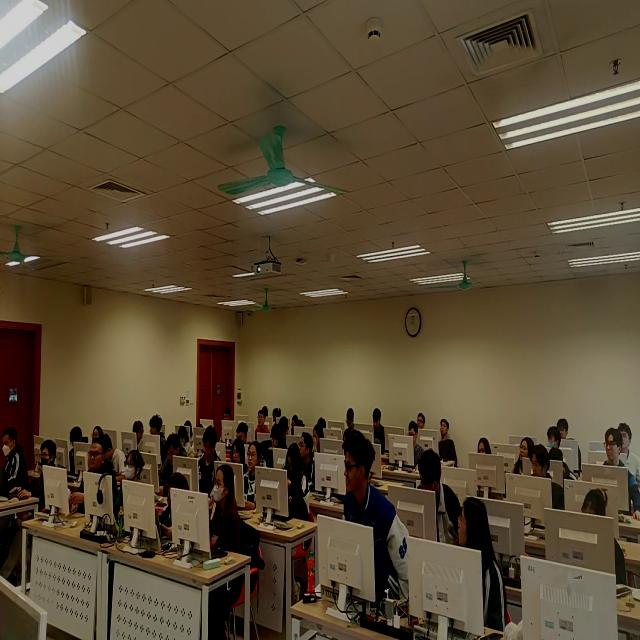raise_head: (70, 437, 120, 520), (602, 424, 640, 524), (207, 461, 243, 555), (530, 442, 566, 514), (114, 447, 146, 526), (555, 415, 583, 482), (616, 420, 640, 491), (244, 438, 263, 511), (299, 431, 317, 494), (438, 415, 460, 465), (512, 434, 535, 478), (543, 422, 564, 453), (254, 409, 270, 442), (477, 432, 494, 459), (418, 410, 428, 430), (92, 423, 103, 441)
stand: (342, 428, 414, 608)
using_computer: (580, 485, 629, 588), (13, 437, 59, 501), (1, 423, 30, 496), (196, 426, 224, 496), (158, 432, 190, 490), (546, 442, 578, 492), (101, 431, 128, 478), (264, 421, 289, 467), (68, 423, 90, 473), (406, 421, 426, 475), (373, 404, 387, 454), (230, 436, 246, 473), (179, 422, 193, 456), (220, 409, 234, 441), (236, 421, 251, 446), (345, 408, 357, 433), (292, 414, 305, 437), (278, 415, 290, 436), (186, 419, 195, 445), (317, 415, 328, 429), (274, 407, 283, 424), (263, 404, 271, 418), (195, 422, 205, 433)
using_phone: (153, 468, 193, 555), (282, 442, 311, 525)
